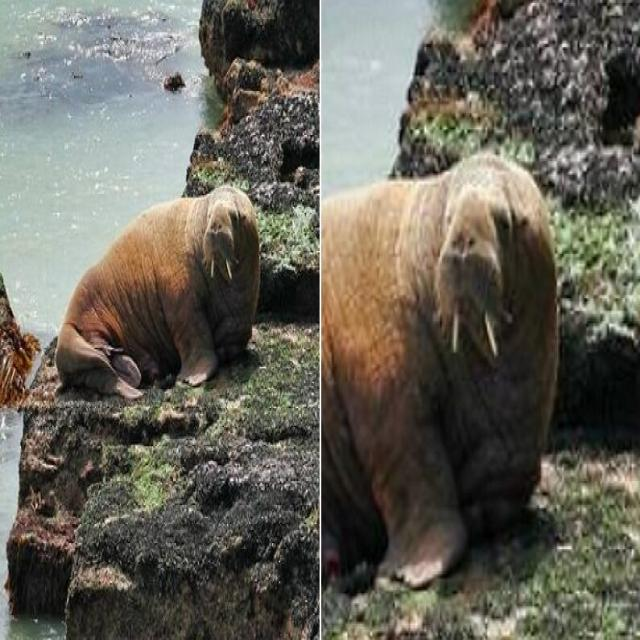walrus: (349, 136, 569, 526), (36, 164, 280, 402)
